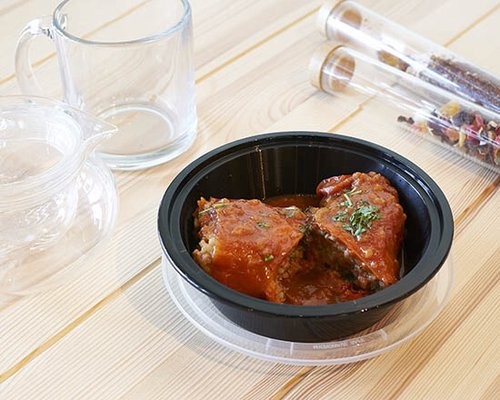pizza: (11, 0, 198, 170)
sushi: (158, 129, 454, 351)
